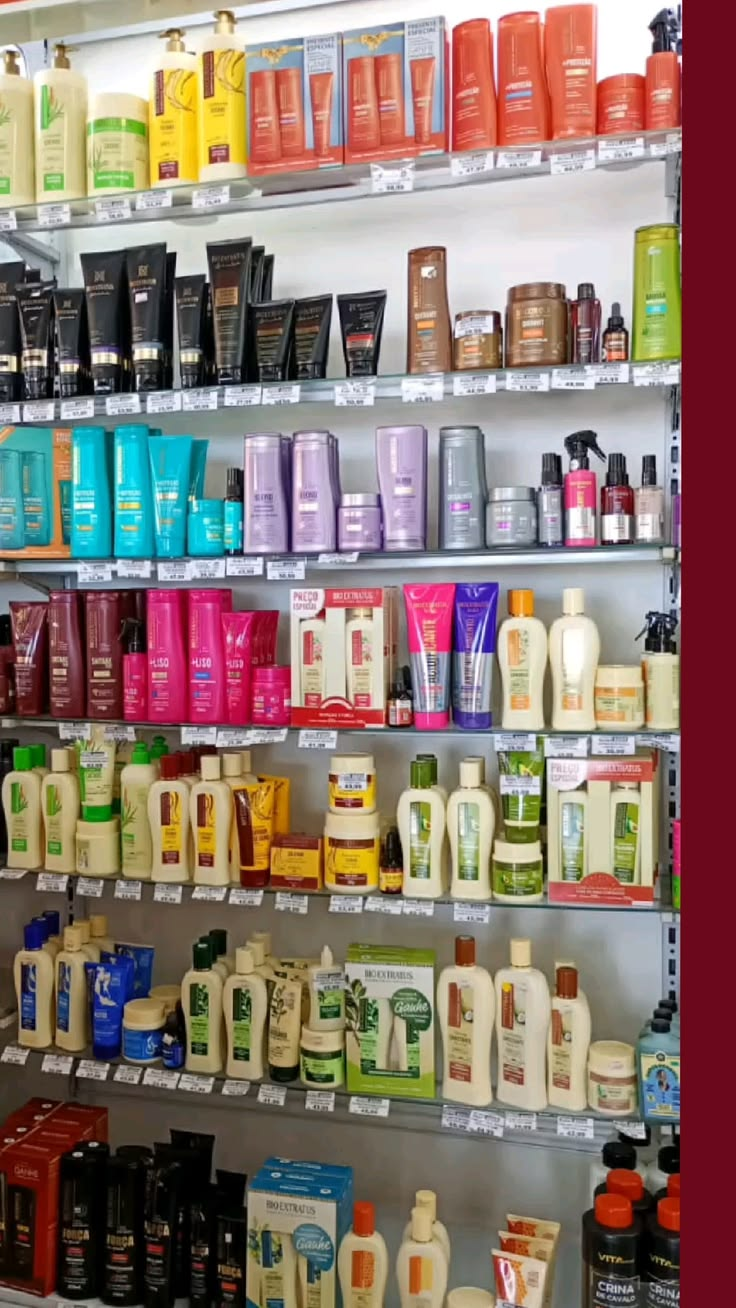Shampoo: (453, 585, 497, 727), (452, 18, 496, 151), (188, 590, 231, 723), (149, 436, 194, 557), (244, 434, 288, 551)
